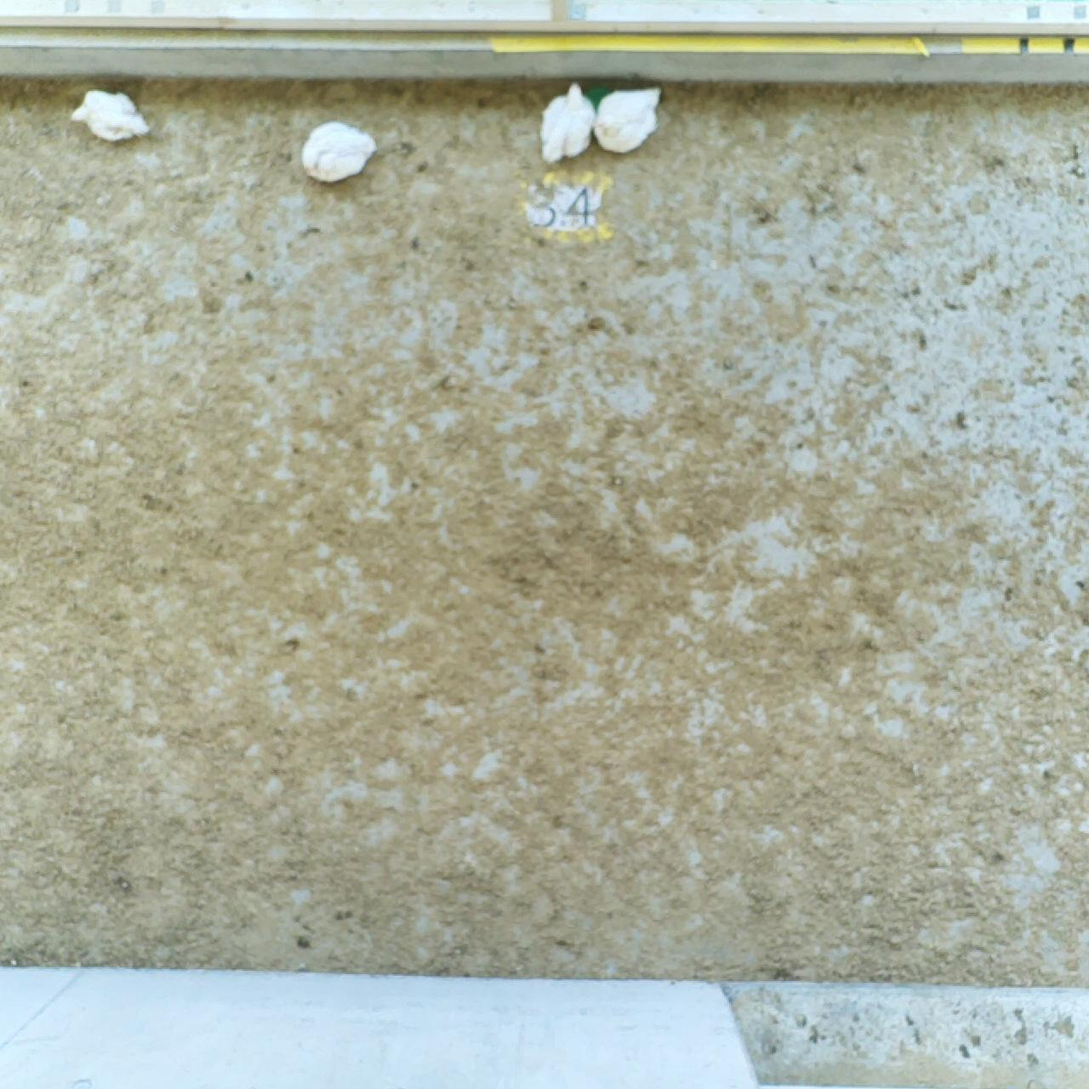chicken: (534, 80, 598, 169), (296, 116, 377, 185), (593, 84, 664, 162), (71, 83, 147, 150)
